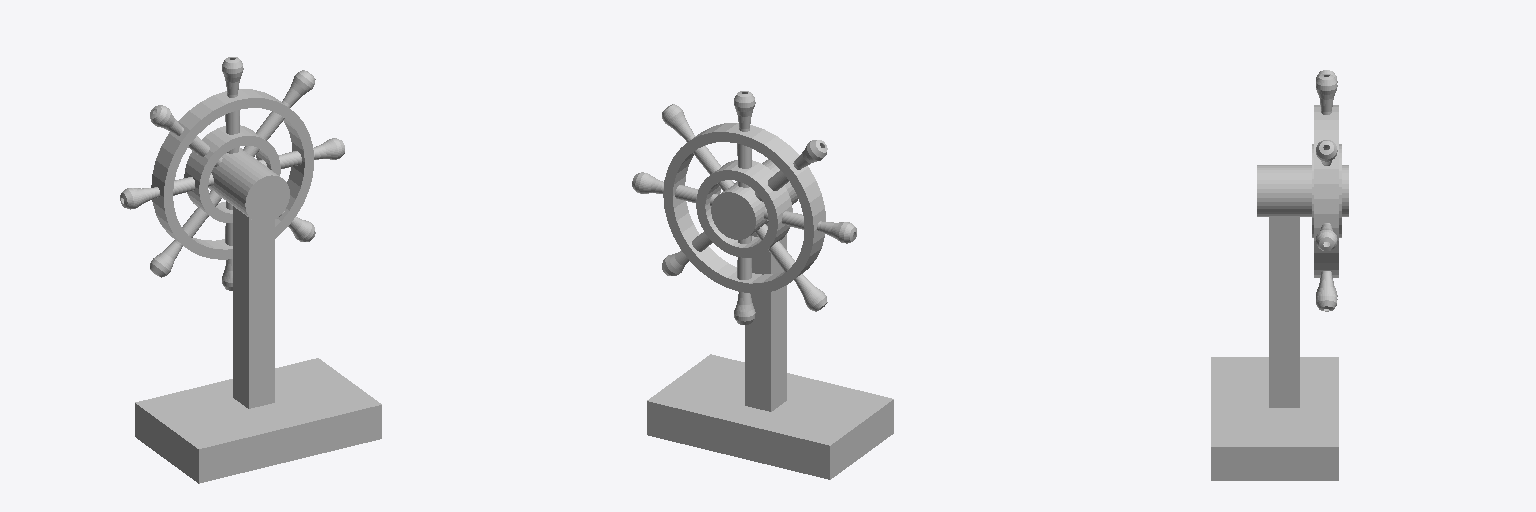
The model's file is wheel.OBJ.
The picture shows the model from 3 angles: view 1: azimuth 30°, elevation 25°; view 2: azimuth 150°, elevation 25°; view 3: azimuth 270°, elevation 25°; orthographic projection.
Parts seen in each view (by area): view 1: Group3; view 2: Group3; view 3: Group3.
Part boxes in pixels (bbox=[...]): Group3: bbox=[120, 57, 381, 483]; Group3: bbox=[632, 91, 893, 479]; Group3: bbox=[1211, 70, 1348, 480].
Bounding box in the file's own units: 0.0838 × 0.1313 × 0.0455.